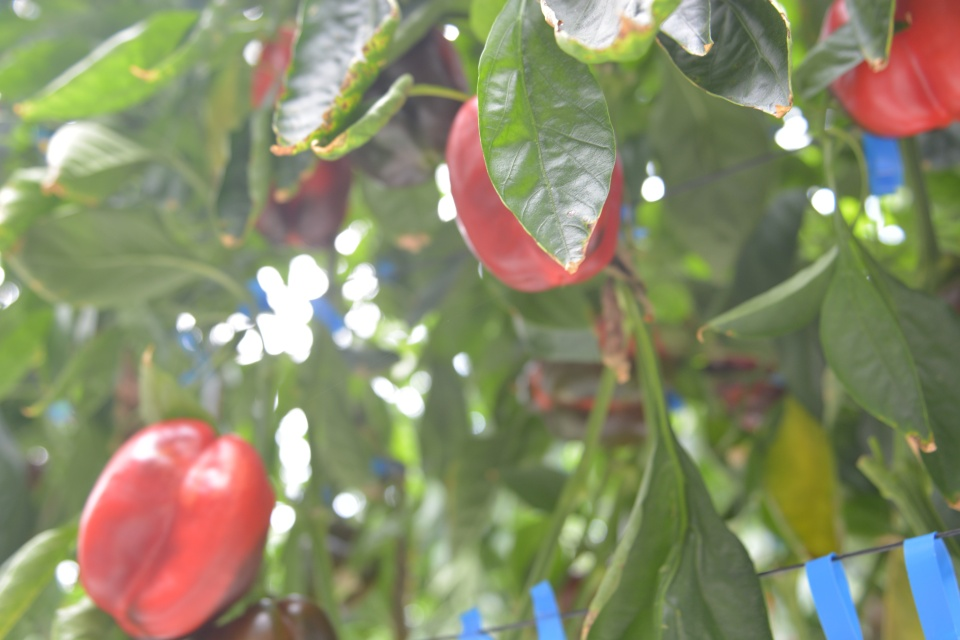fruit: (71, 415, 276, 640), (442, 87, 626, 296), (345, 28, 472, 192), (815, 5, 960, 140), (255, 155, 353, 249), (197, 586, 340, 640)
